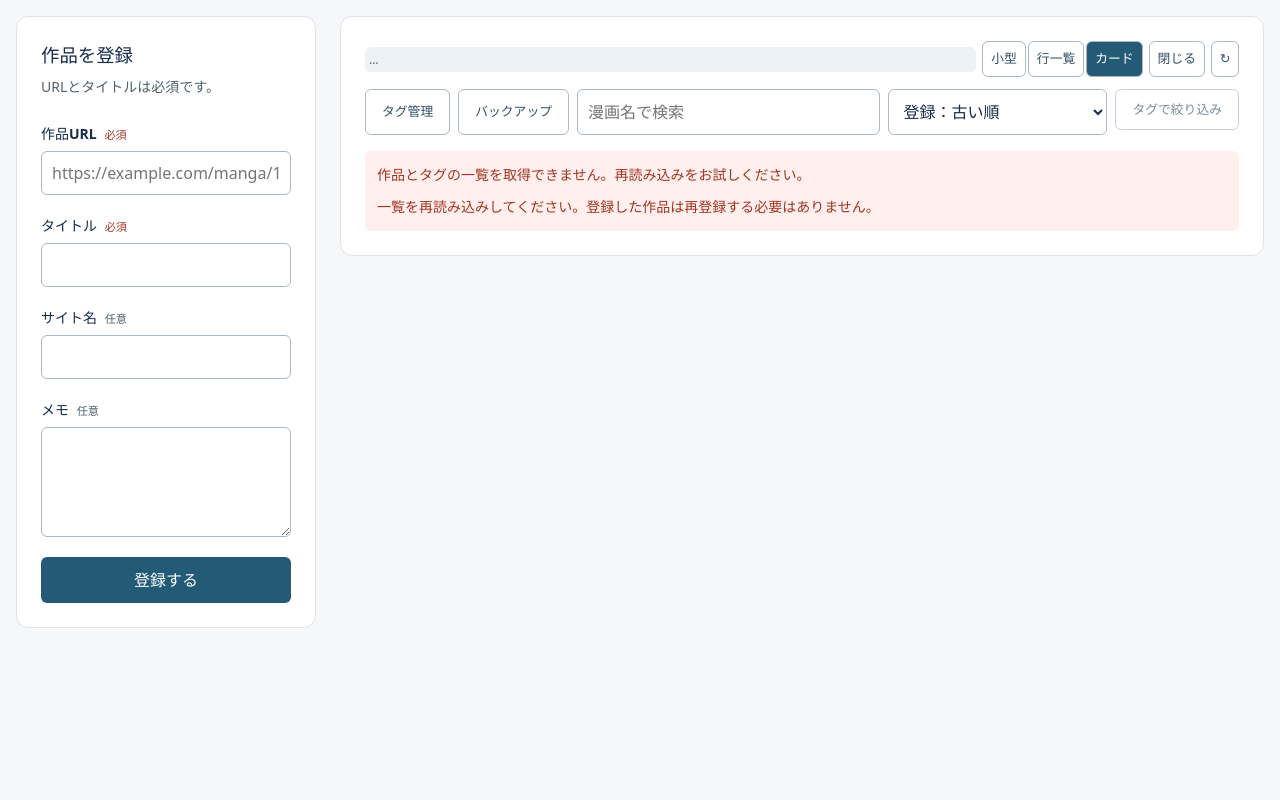
Test case: 部分応答を初回の空成功にせず、一式の再取得成功だけを採用する
Expected: the message "作品とタグの一覧を取得できません。再読み込みをお試しください。 一覧を再読み込みしてください。登録した作品は再登録する必要はありません。" is shown, [365, 151, 1239, 231]
Click the button named "再読み込み".
click(1225, 59)  # box [1211, 41, 1239, 77]
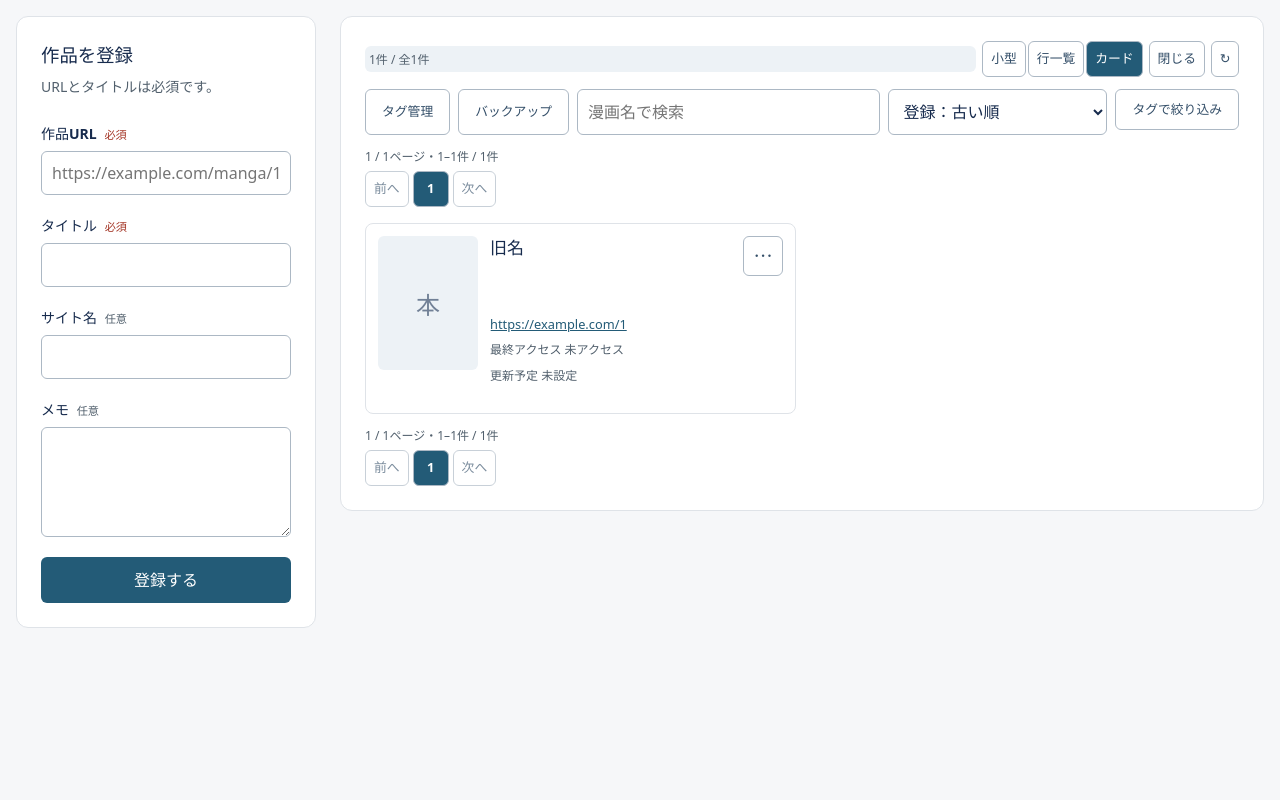
Now the heading "旧名" is shown, box [490, 236, 524, 259]
